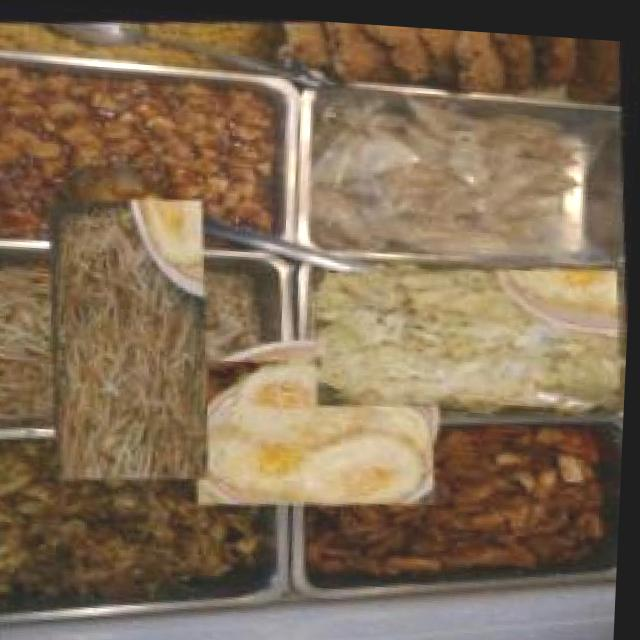chinese_cabbage: (312, 242, 630, 416)
fried_chicken: (297, 16, 575, 102)
fried_eggs: (190, 341, 443, 514)
mung_bean_sprouts: (13, 214, 251, 457)
